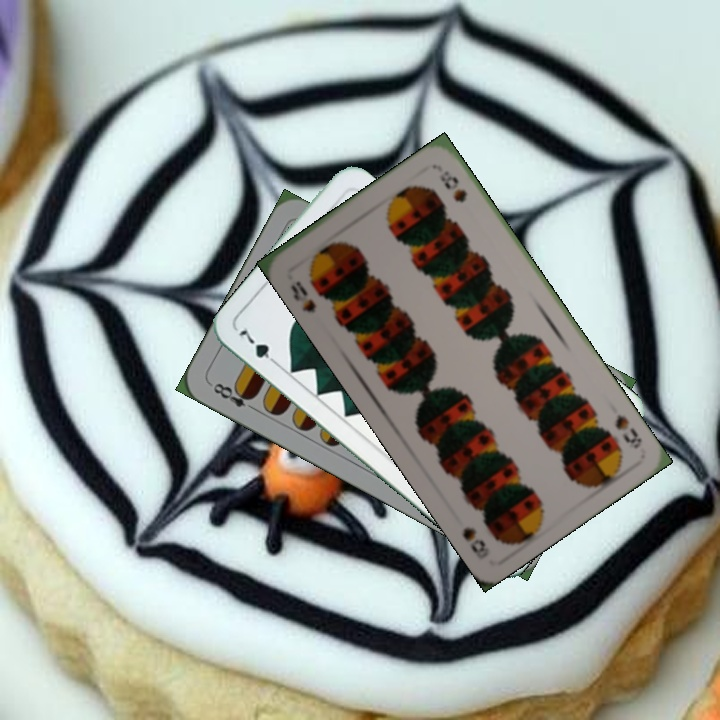E8: (209, 378, 260, 414)
G7: (234, 323, 283, 369)
S8: (610, 410, 645, 451), (286, 277, 319, 315)
